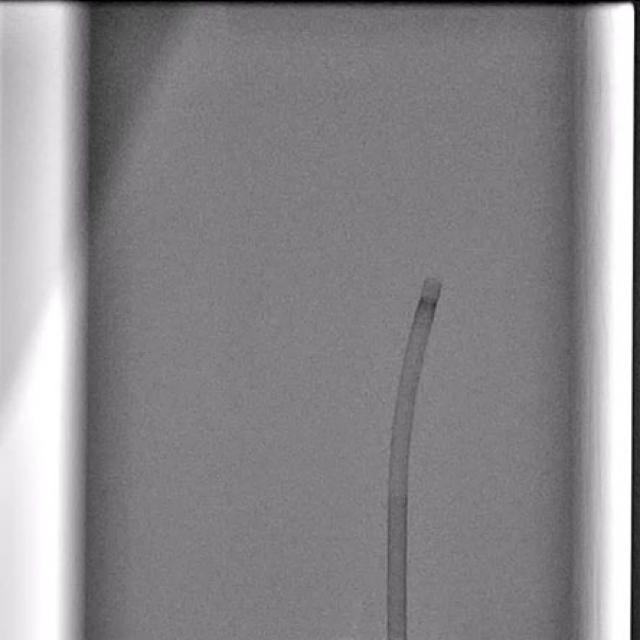bend: (388, 481, 408, 496)
entry: (387, 635, 407, 640)
marker: (416, 296, 439, 310)
tip: (424, 278, 444, 288)
